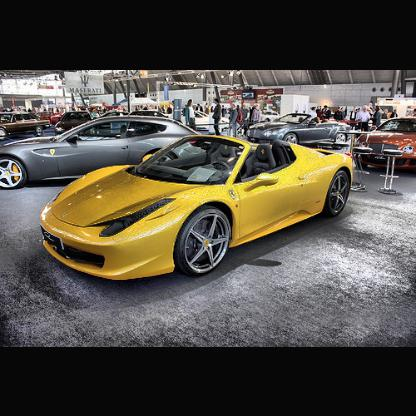Ferrari 458 Italia Convertible 2012: (39, 133, 354, 282)
